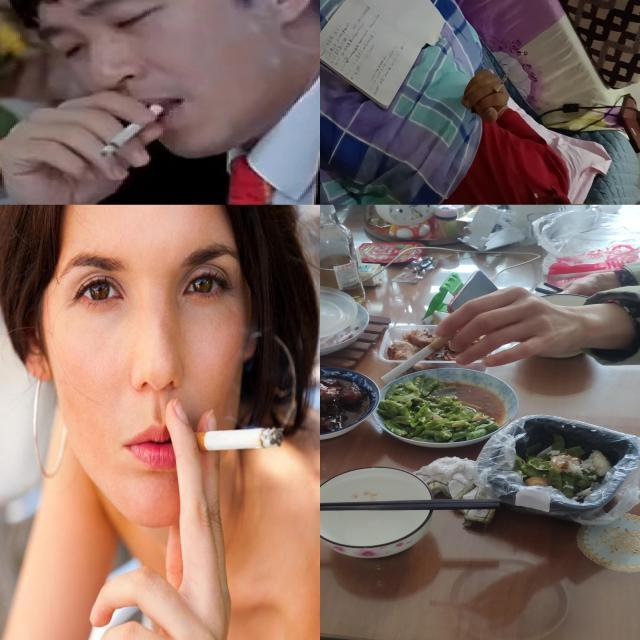smoking: (381, 328, 460, 384), (100, 102, 165, 158), (178, 426, 286, 454), (492, 74, 508, 96)
